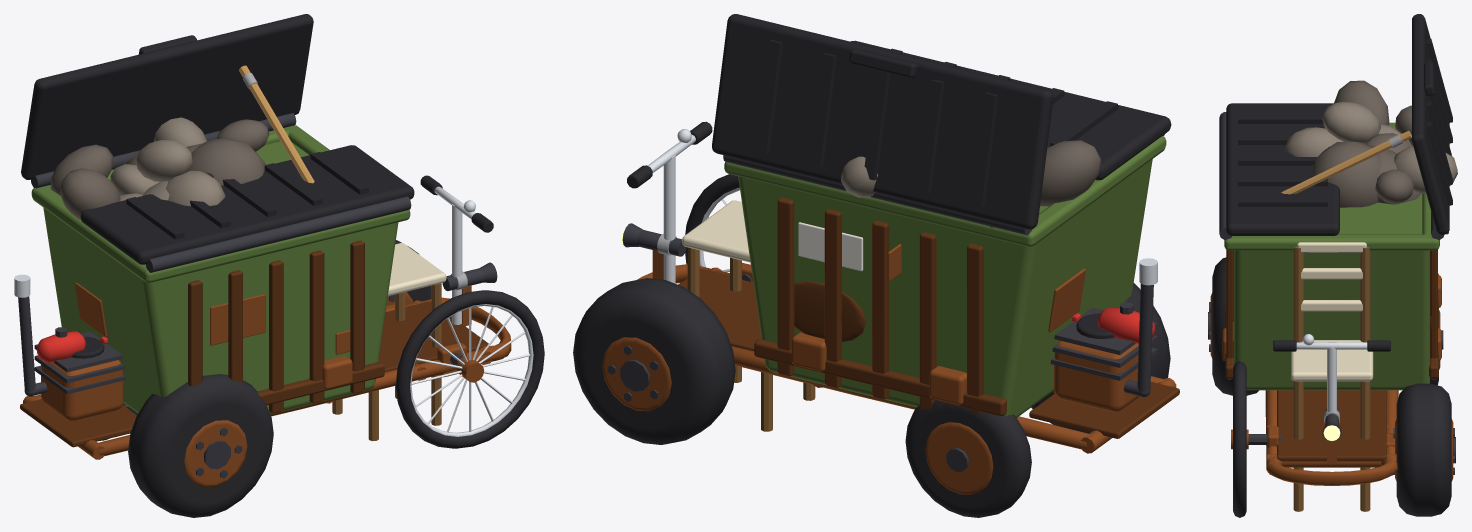
File: vehicle_debris_hauler_t1.glb
The picture shows the model from 3 angles, left to right: view 1: azimuth 30°, elevation 25°; view 2: azimuth 150°, elevation 25°; view 3: azimuth 270°, elevation 25°; orthographic projection. The views are drawn at different scales.
Visible parts, largest first — view 1: Skip.Tub, Skip.Lid.001, Skip.Lid, WheelRR.Tyre, Skip.Rib, WheelFR.Tyre, Skip.Hinge, Skip.LidRib, Engine.Block, Frame.Floor, Skip.Lip, Frame.Shelf (+27 smaller); view 2: Skip.Tub, Skip.Lid.001, WheelFL.Tyre, Skip.Rib.001, Skip.LidRib.001, WheelRL.Tyre, Skip.Lid, Skip.Lip.002, Engine.Block, Frame.Shelf, WheelRL.Dish, Skip.Rail.001 (+23 smaller); view 3: Skip.Tub, Skip.Lid, WheelFL.Tyre, Frame.Floor, Skip.Lid.001, Skip.LidRib, Skip.Load.Rock.003, Skip.Lip.003, Chair.Seat, Skip.LidRib.001, WheelFR.Tyre, Frame.Nose (+27 smaller).
Part boxes in pixels (x1,y1,x2,y2): Skip.Tub: [43, 141, 398, 414]; Skip.Lid.001: [21, 14, 313, 179]; Skip.Lid: [80, 145, 414, 264]; WheelRR.Tyre: [128, 374, 273, 517]; Skip.Rib: [188, 240, 364, 413]; WheelFR.Tyre: [395, 290, 544, 448]; Skip.Hinge: [146, 196, 411, 272]; Skip.LidRib: [126, 152, 368, 239]; Engine.Block: [41, 360, 123, 420]; Frame.Floor: [378, 301, 488, 371]; Skip.Lip: [140, 210, 410, 282]; Frame.Shelf: [20, 399, 136, 447]; Skip.Tub: [738, 159, 1152, 417]; Skip.Lid.001: [712, 14, 1053, 229]; WheelFL.Tyre: [573, 278, 735, 444]; Skip.Rib.001: [777, 197, 983, 414]; Skip.LidRib.001: [755, 40, 998, 206]; WheelRL.Tyre: [905, 400, 1031, 517]; Skip.Lid: [850, 40, 1171, 180]; Skip.Lip.002: [724, 162, 1039, 246]; Engine.Block: [1054, 340, 1139, 411]; Frame.Shelf: [1029, 382, 1179, 438]; WheelRL.Dish: [925, 422, 993, 494]; Skip.Rail.001: [754, 339, 1006, 416]; Skip.Tub: [1234, 194, 1429, 390]; Skip.Lid: [1226, 103, 1339, 235]; WheelFL.Tyre: [1396, 383, 1451, 516]; Frame.Floor: [1277, 390, 1386, 461]; Skip.Lid.001: [1412, 14, 1449, 234]; Skip.LidRib: [1238, 115, 1327, 206]; Skip.Load.Rock.003: [1312, 141, 1381, 207]; Skip.Lip.003: [1231, 234, 1432, 250]; Chair.Seat: [1291, 340, 1373, 381]; Skip.LidRib.001: [1426, 39, 1452, 205]; WheelFR.Tyre: [1233, 361, 1246, 517]; Frame.Nose: [1266, 455, 1397, 485].
Size of the model in its own units: 2.54 by 1.96 by 1.27.
